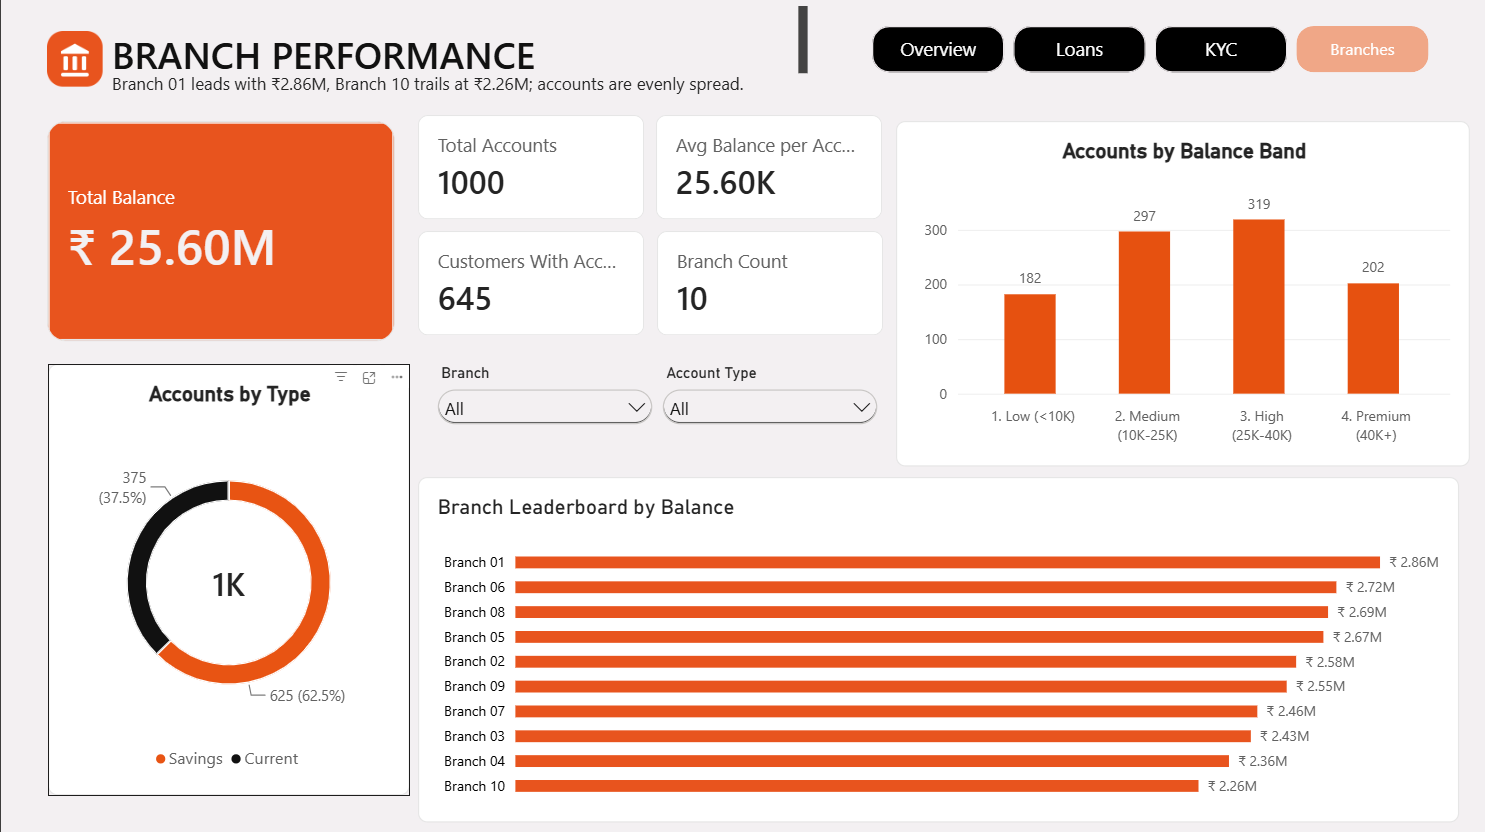

What the dashboard file says about the page in this screenshot:
{"tool":"powerbi","page":{"name":"Branches","canvas":[1280,720],"ordinal":3},"visuals":[{"type":"textbox","box":[96,6,600,60],"z":0},{"type":"textbox","box":[96,61.7,600,43.7],"z":1000},{"type":"cardVisual","fields":{"Data":["Measures (2).Total Balance"]},"box":[40,105.4,300,190],"z":2000},{"type":"cardVisual","fields":{"Data":["Measures (2).Total Accounts"]},"box":[360,100,195,90],"z":3000},{"type":"cardVisual","fields":{"Data":["Measures (2).Branch Count"]},"box":[565.5,200.5,195.3,90],"z":4000},{"type":"cardVisual","fields":{"Data":["Measures (2).Avg Balance per Account"]},"box":[565,100.2,195,90],"z":5000},{"type":"cardVisual","fields":{"Data":["Measures (2).Customers With Accounts"]},"box":[360,200,195,90],"z":6000},{"type":"clusteredColumnChart","title":"Accounts by Balance Band","fields":{"Category":["Accounts.Balance band"],"Y":["Measures (2).Total Accounts"]},"box":[772.1,105.4,495.4,298.2],"z":7000},{"type":"donutChart","title":"Accounts by Type","fields":{"Category":["Accounts.account_type"],"Y":["Measures (2).Total Accounts"]},"box":[40.8,315.2,311.8,371.9],"z":8000},{"type":"clusteredBarChart","title":"Branch Leaderboard by Balance","fields":{"Category":["Branches.Branch"],"Y":["Measures (2).Total Balance"]},"box":[359.9,412.4,897.8,297.6],"z":9000},{"type":"pageNavigator","box":[750.9,23.3,480,40],"z":10000},{"type":"slicer","fields":{"Values":["Branches.Branch"]},"box":[371.6,315.1,195,55],"z":10001},{"type":"slicer","fields":{"Values":["Accounts.account_type"]},"box":[566.1,315.1,195,55],"z":10002},{"type":"image","box":[40,28,48,48],"z":10003}]}

Visuals, with their boxes in screenshot pixels (x1, y1, x2, y2), scaled from the page's 1280x720 canvas onto the 1485x832 screenshot:
textbox: x1=111 y1=7 x2=807 y2=76
textbox: x1=111 y1=71 x2=807 y2=122
cardVisual - Measures (2).Total Balance: x1=46 y1=122 x2=394 y2=341
cardVisual - Measures (2).Total Accounts: x1=418 y1=116 x2=644 y2=220
cardVisual - Measures (2).Branch Count: x1=656 y1=232 x2=883 y2=336
cardVisual - Measures (2).Avg Balance per Account: x1=655 y1=116 x2=882 y2=220
cardVisual - Measures (2).Customers With Accounts: x1=418 y1=231 x2=644 y2=335
"Accounts by Balance Band" clusteredColumnChart: x1=896 y1=122 x2=1470 y2=466
"Accounts by Type" donutChart: x1=47 y1=364 x2=409 y2=794
"Branch Leaderboard by Balance" clusteredBarChart: x1=418 y1=477 x2=1459 y2=820
pageNavigator: x1=871 y1=27 x2=1428 y2=73
slicer - Branches.Branch: x1=431 y1=364 x2=657 y2=428
slicer - Accounts.account_type: x1=657 y1=364 x2=883 y2=428
image: x1=46 y1=32 x2=102 y2=88
